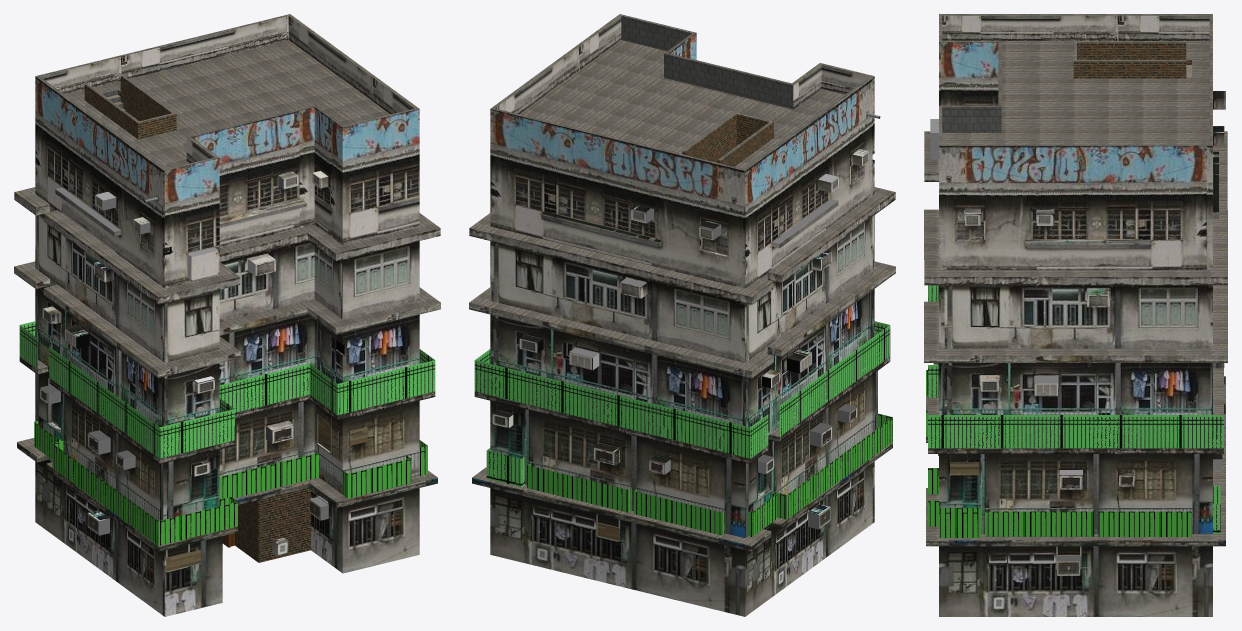
The model's file is building-1.glb.
3 views of the same model, side by side, from view 1: azimuth 30°, elevation 25°; view 2: azimuth 150°, elevation 25°; view 3: azimuth 270°, elevation 25° (orthographic). The views are drawn at different scales.
Visible parts, largest first — view 1: SketchUp_Instance_68.001, SketchUp_Instance_68.003, SketchUp_Instance_68.008, SketchUp_Instance_68.004, SketchUp_Instance_68.060, SketchUp_Instance_68.006, SketchUp_Instance_68.083, SketchUp_Instance_68.016, SketchUp_Instance_68.013, SketchUp_Instance_68.137, SketchUp_Instance_68.011, SketchUp_Instance_68.086 (+4 smaller); view 2: SketchUp_Instance_68.001, SketchUp_Instance_68.008, SketchUp_Instance_68.004, SketchUp_Instance_68.060, SketchUp_Instance_68.005, SketchUp_Instance_68.006, SketchUp_Instance_68.016, SketchUp_Instance_68.013, SketchUp_Instance_68.083, SketchUp_Instance_68.011, SketchUp_Instance_68.091, SketchUp_Instance_68 (+6 smaller); view 3: SketchUp_Instance_68.001, SketchUp_Instance_68.002, SketchUp_Instance_68.008, SketchUp_Instance_68.004, SketchUp_Instance_68.060, SketchUp_Instance_68.006, SketchUp_Instance_68.013, SketchUp_Instance_68.016, SketchUp_Instance_68.011, SketchUp_Instance_68.003, SketchUp_Instance_68.088, SketchUp_Instance_68 (+10 smaller).
Part boxes in pixels (bbox=[...]): SketchUp_Instance_68.001: bbox=[14, 76, 440, 520]; SketchUp_Instance_68.003: bbox=[164, 107, 419, 288]; SketchUp_Instance_68.008: bbox=[17, 442, 437, 616]; SketchUp_Instance_68.004: bbox=[65, 40, 389, 168]; SketchUp_Instance_68.060: bbox=[19, 321, 435, 458]; SketchUp_Instance_68.006: bbox=[40, 16, 414, 163]; SketchUp_Instance_68.083: bbox=[52, 440, 237, 545]; SketchUp_Instance_68.016: bbox=[14, 261, 440, 371]; SketchUp_Instance_68.013: bbox=[15, 187, 440, 296]; SketchUp_Instance_68.137: bbox=[235, 487, 310, 562]; SketchUp_Instance_68.011: bbox=[84, 76, 176, 139]; SketchUp_Instance_68.086: bbox=[219, 453, 318, 499]; SketchUp_Instance_68.001: bbox=[469, 76, 895, 538]; SketchUp_Instance_68.008: bbox=[472, 442, 892, 616]; SketchUp_Instance_68.004: bbox=[520, 40, 844, 168]; SketchUp_Instance_68.060: bbox=[474, 321, 890, 458]; SketchUp_Instance_68.005: bbox=[621, 16, 793, 109]; SketchUp_Instance_68.006: bbox=[495, 16, 869, 114]; SketchUp_Instance_68.016: bbox=[469, 261, 895, 371]; SketchUp_Instance_68.013: bbox=[469, 187, 894, 296]; SketchUp_Instance_68.083: bbox=[774, 413, 892, 519]; SketchUp_Instance_68.011: bbox=[682, 114, 773, 166]; SketchUp_Instance_68.091: bbox=[527, 463, 631, 512]; SketchUp_Instance_68: bbox=[490, 14, 874, 170]; SketchUp_Instance_68.001: bbox=[924, 173, 1227, 533]; SketchUp_Instance_68.002: bbox=[939, 145, 1212, 269]; SketchUp_Instance_68.008: bbox=[926, 437, 1225, 616]; SketchUp_Instance_68.004: bbox=[942, 41, 1209, 143]; SketchUp_Instance_68.060: bbox=[928, 285, 1223, 448]; SketchUp_Instance_68.006: bbox=[942, 15, 1209, 40]; SketchUp_Instance_68.013: bbox=[924, 131, 1227, 276]; SketchUp_Instance_68.016: bbox=[924, 209, 1227, 355]; SketchUp_Instance_68.011: bbox=[1073, 42, 1191, 78]; SketchUp_Instance_68.003: bbox=[939, 42, 998, 105]; SketchUp_Instance_68.088: bbox=[985, 511, 1093, 536]; SketchUp_Instance_68: bbox=[939, 14, 1212, 145].
Bounding box in the file's own units: 3.88 × 5.85 × 3.41.
Materials: 26 (16 with a texture image).
